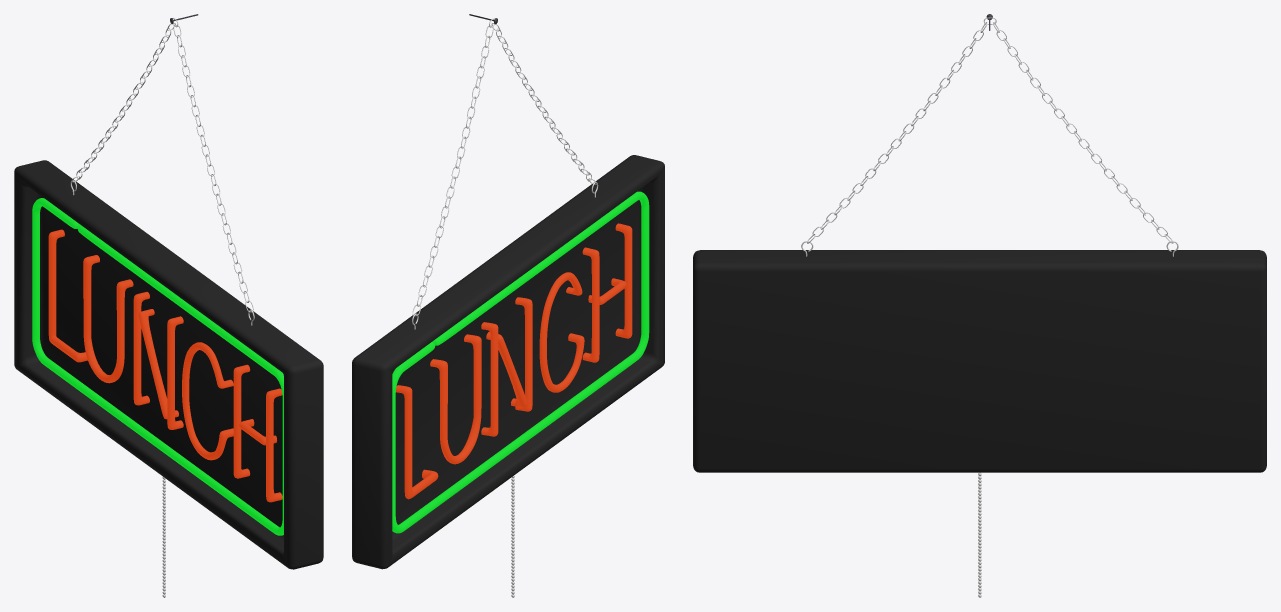
The picture shows the model from 3 angles, left to right: view 1: azimuth 30°, elevation 25°; view 2: azimuth 150°, elevation 25°; view 3: azimuth 270°, elevation 25°; orthographic projection. The views are drawn at different scales.
Visible parts, largest first — view 1: Cube, Cube.001, Torus.110, Sphere.021; view 2: Cube, Cube.001, Torus.110, Sphere.021; view 3: Cube, Torus.110.
Boxes of the visible parts, left/top/right/bottom form: Cube: left=14, top=160, right=323, bottom=569; Cube.001: left=32, top=198, right=283, bottom=535; Torus.110: left=71, top=18, right=253, bottom=312; Sphere.021: left=162, top=477, right=165, bottom=597; Cube: left=352, top=155, right=664, bottom=569; Cube.001: left=392, top=191, right=649, bottom=533; Torus.110: left=412, top=18, right=597, bottom=316; Sphere.021: left=511, top=475, right=514, bottom=597; Cube: left=693, top=241, right=1266, bottom=472; Torus.110: left=807, top=17, right=1173, bottom=243.
Bounding box in the file's own units: 10.71 × 113 × 100.
